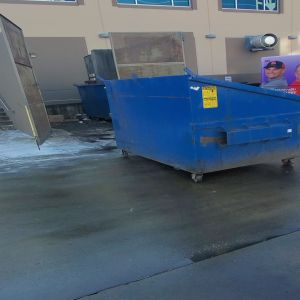Dumpster: (103, 79, 300, 183)
Person: (264, 61, 288, 89)
